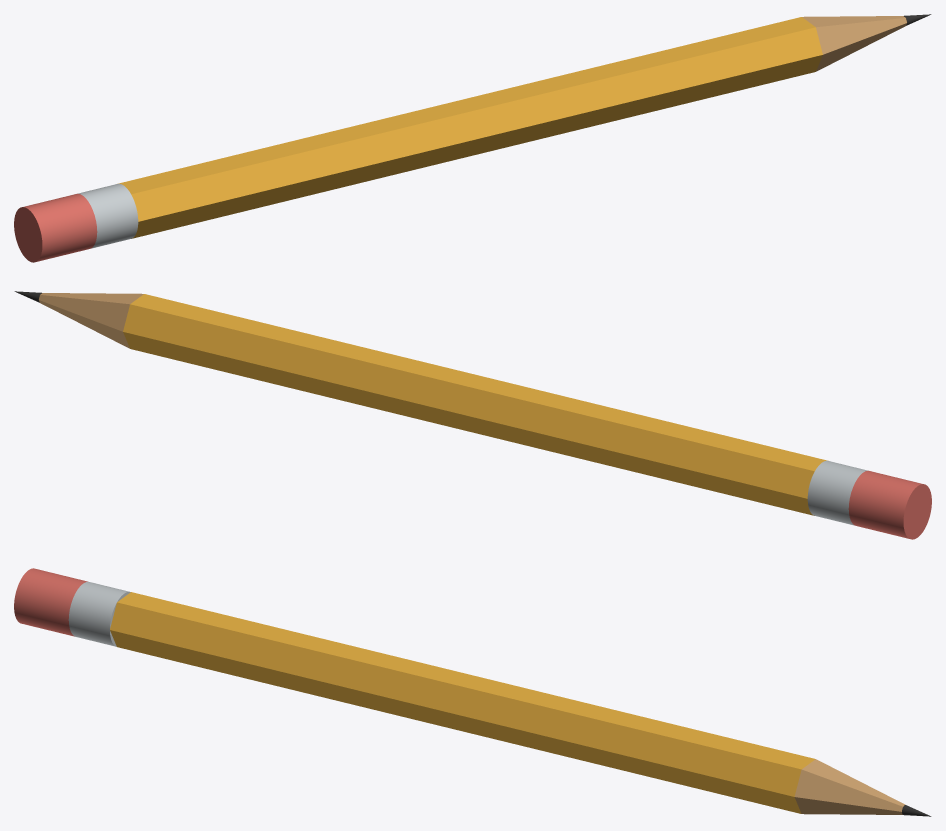
File: pencil-light-collar.glb
3 views of the same model, one above another, from view 1: azimuth 30°, elevation 25°; view 2: azimuth 150°, elevation 25°; view 3: azimuth 330°, elevation 25° (orthographic).
Visible parts, largest first — view 1: Refined_Pencil_Shaft, Refined_Pencil_Eraser, Refined_Pencil_Wood, Refined_Pencil_Ferrule; view 2: Refined_Pencil_Shaft, Refined_Pencil_Eraser, Refined_Pencil_Wood, Refined_Pencil_Ferrule; view 3: Refined_Pencil_Shaft, Refined_Pencil_Wood, Refined_Pencil_Eraser, Refined_Pencil_Ferrule.
Part boxes in pixels (x1=…): Refined_Pencil_Shaft: x1=117, y1=17, x2=822, y2=238; Refined_Pencil_Eraser: x1=14, y1=193, x2=97, y2=262; Refined_Pencil_Wood: x1=802, y1=16, x2=906, y2=71; Refined_Pencil_Ferrule: x1=78, y1=183, x2=138, y2=248; Refined_Pencil_Shaft: x1=123, y1=294, x2=828, y2=515; Refined_Pencil_Eraser: x1=848, y1=470, x2=931, y2=539; Refined_Pencil_Wood: x1=39, y1=293, x2=143, y2=348; Refined_Pencil_Ferrule: x1=807, y1=460, x2=867, y2=525; Refined_Pencil_Shaft: x1=110, y1=592, x2=815, y2=813; Refined_Pencil_Wood: x1=794, y1=759, x2=905, y2=814; Refined_Pencil_Eraser: x1=14, y1=568, x2=87, y2=636; Refined_Pencil_Ferrule: x1=68, y1=581, x2=130, y2=646.
Bounding box in the file's own units: 0.198 × 0.0108 × 0.0108.
